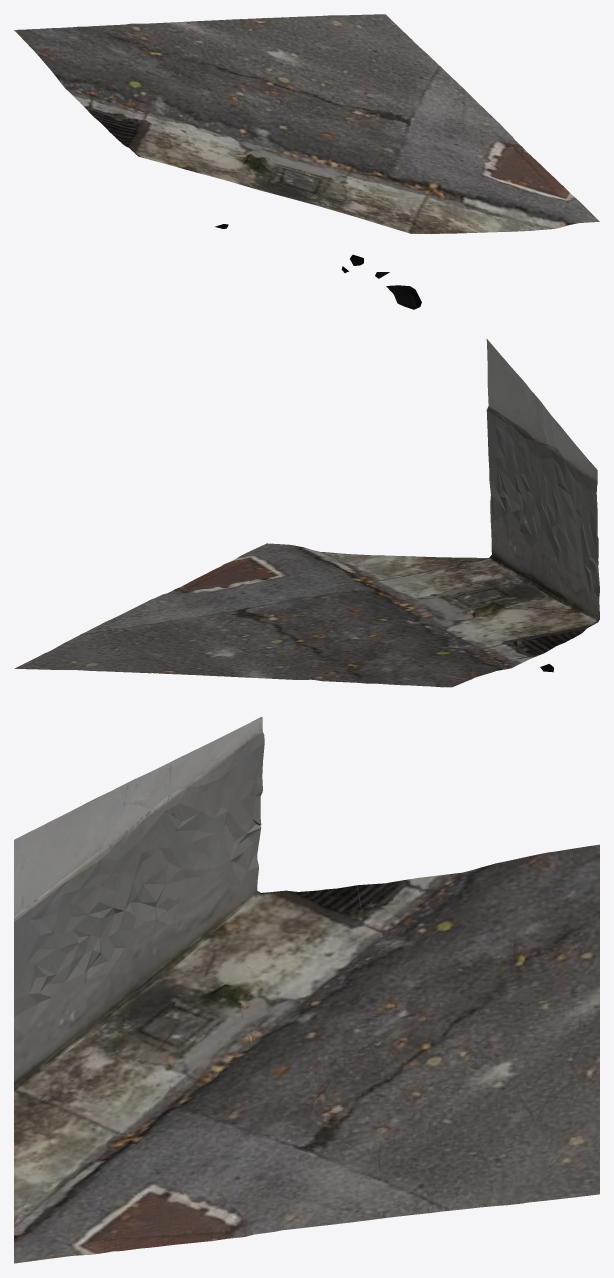
3 views of the same model, one above another, from view 1: azimuth 30°, elevation 25°; view 2: azimuth 150°, elevation 25°; view 3: azimuth 270°, elevation 25° (orthographic). The views are drawn at different scales.
Size of the model in its own units: 3.35 by 2.3 by 3.35.
Materials: 3 (3 with a texture image).
